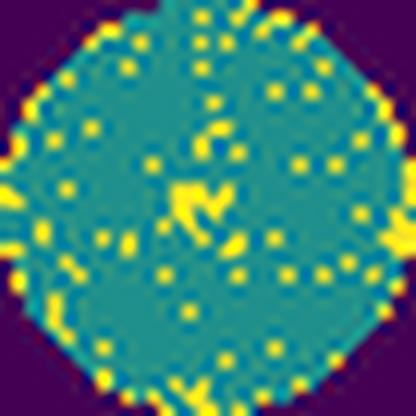Center: (155, 176, 240, 247)
